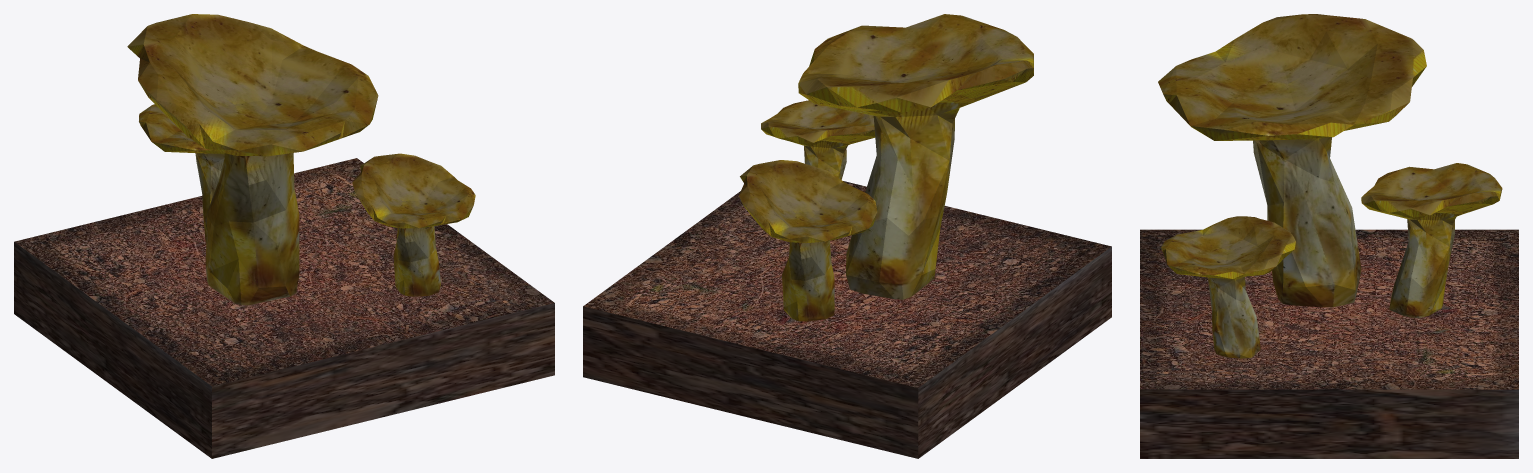
The model's file is Mushrooms.glb.
3 renders of one model, left to right at view 1: azimuth 30°, elevation 25°; view 2: azimuth 150°, elevation 25°; view 3: azimuth 270°, elevation 25°, orthographic. The views are drawn at different scales.
Visible parts, largest first — view 1: Mushrooms; view 2: Mushrooms; view 3: Mushrooms.
Part boxes in pixels (x1,y1,x2,y2): Mushrooms: [14, 14, 554, 458]; Mushrooms: [583, 14, 1111, 458]; Mushrooms: [1140, 14, 1518, 458].
Size of the model in its own units: 2 by 1.76 by 2.
Materials: 2 (2 with a texture image).
